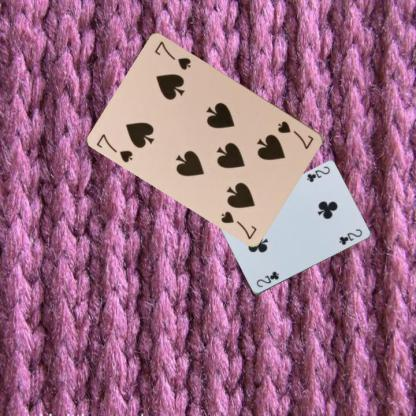2c: (304, 164, 331, 184), (254, 269, 280, 289)
7s: (94, 131, 135, 164), (275, 118, 315, 150)
